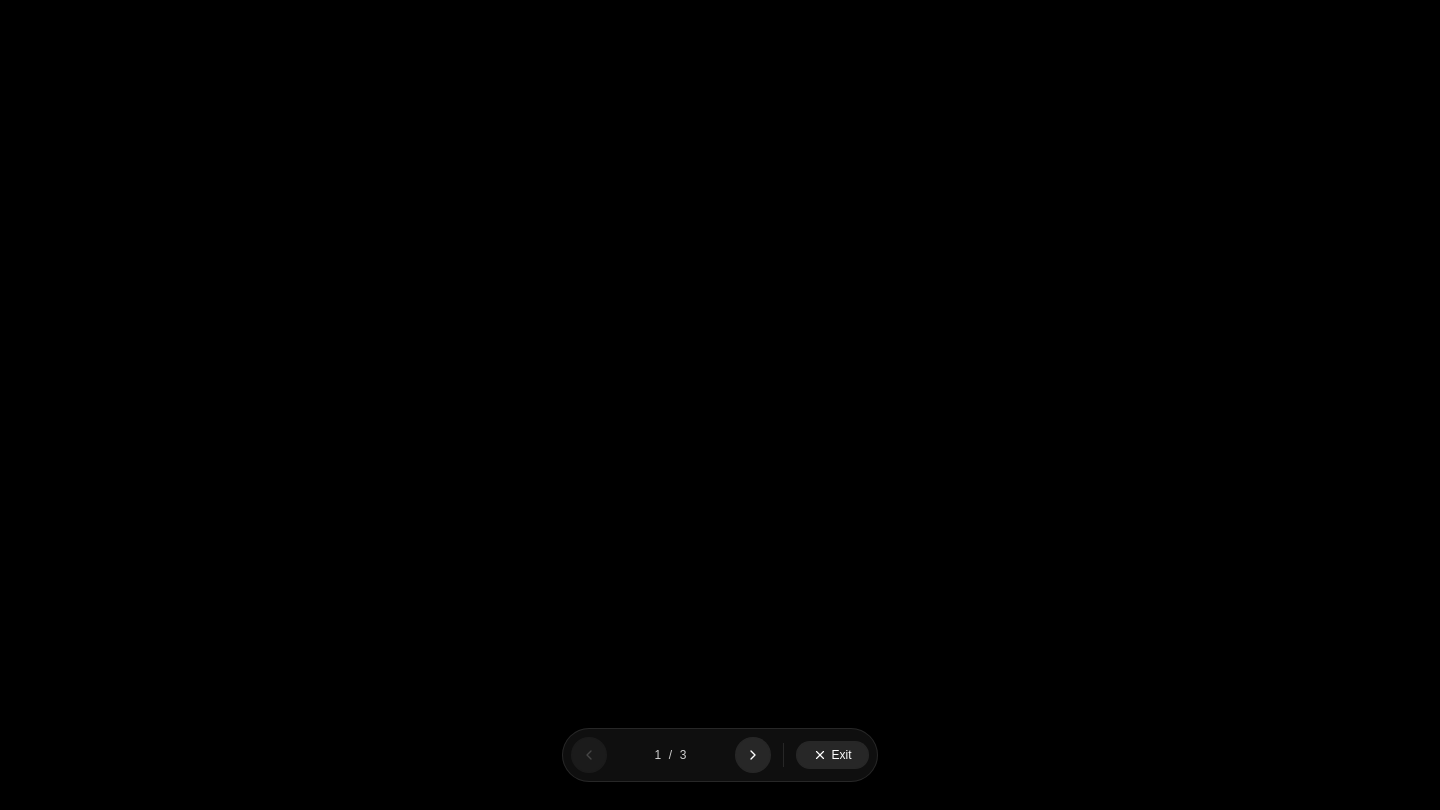
Test case: PresentMode › delegates slide navigation and exits with the current slide
Later steps or results of the test are not shown.
Check: the text "1 / 3" is shown, box [654, 748, 689, 762]
Click the button named "Next slide" at (754, 755), box [736, 737, 772, 773]
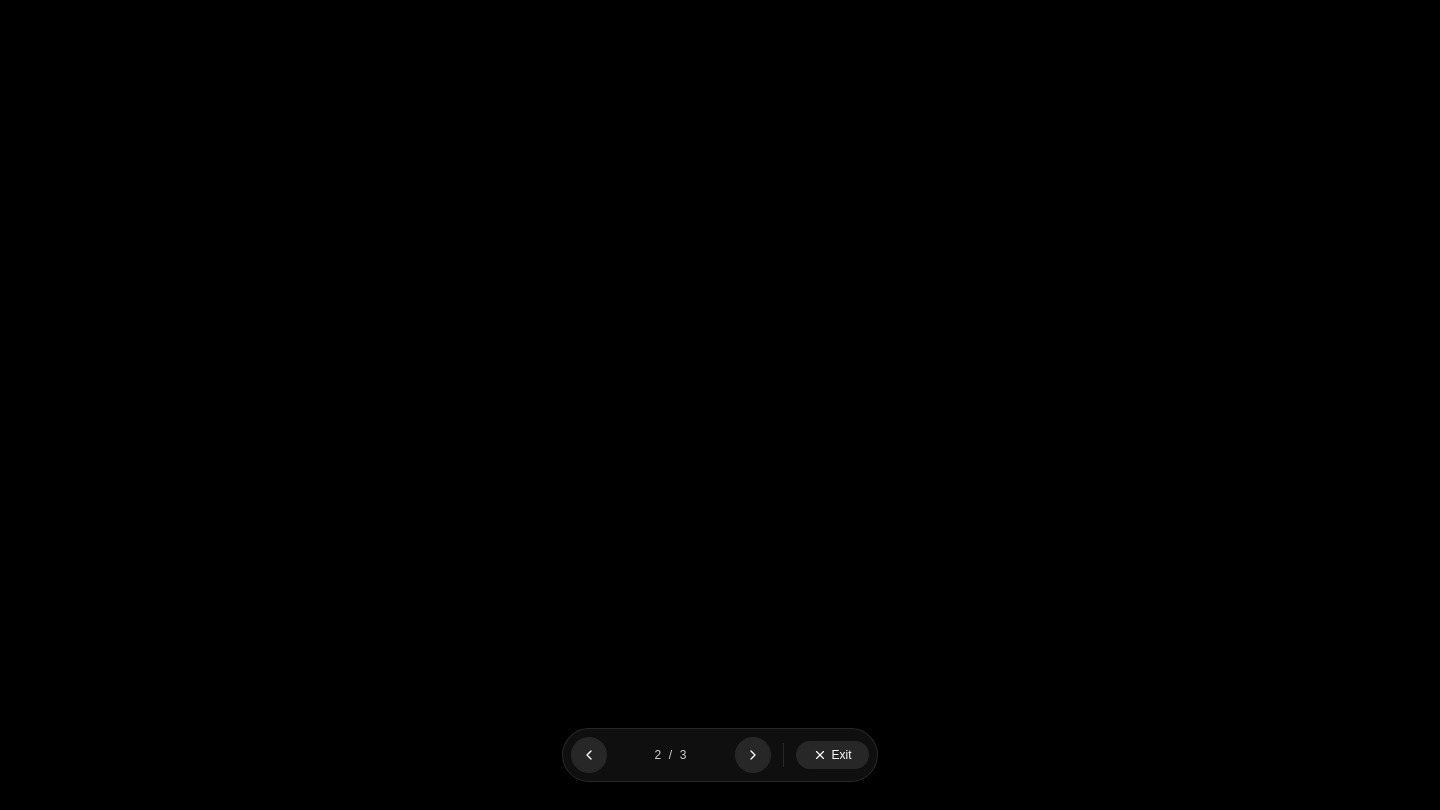
Check: the text "2 / 3" is shown, box [654, 748, 689, 762]
